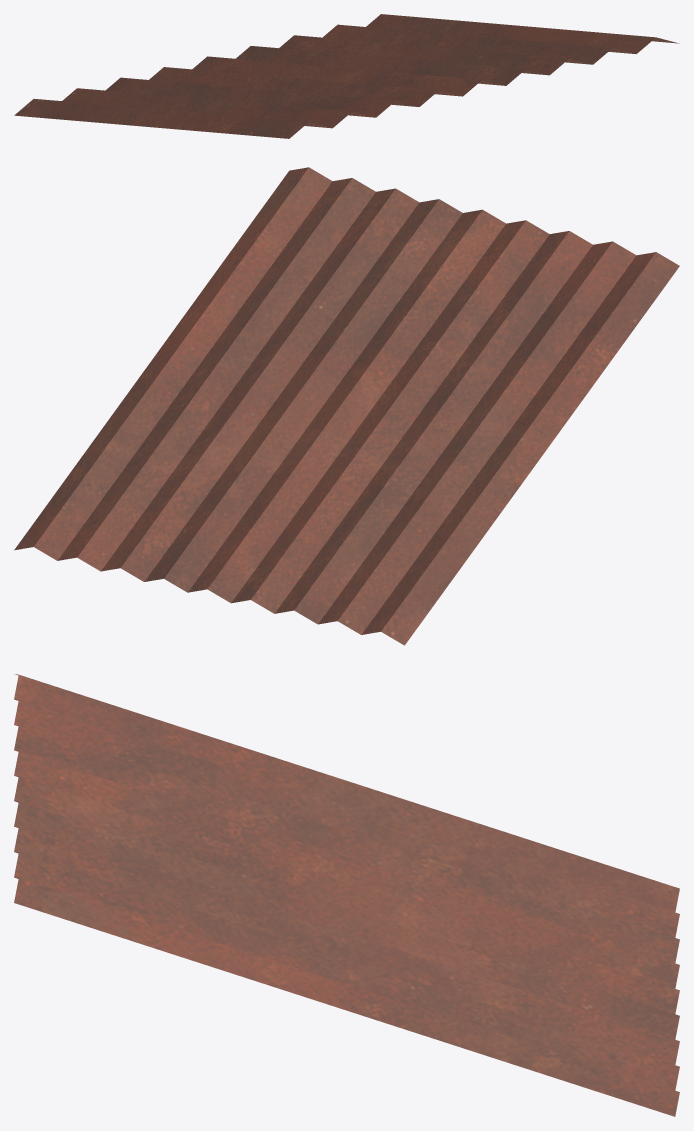
The model's file is Chapa.glb.
3 views of the same model, one above another, from view 1: azimuth 30°, elevation 25°; view 2: azimuth 150°, elevation 25°; view 3: azimuth 270°, elevation 25° (orthographic). The views are drawn at different scales.
Parts seen in each view (by area): view 1: Plane; view 2: Plane; view 3: Plane.
Part boxes in pixels (left/top/right/bottom): Plane: left=14, top=14, right=679, bottom=138; Plane: left=14, top=167, right=679, bottom=645; Plane: left=14, top=674, right=679, bottom=1116.
Bounding box in the file's own units: 0.9507 × 0.4379 × 1.17.
Materials: 1 (1 with a texture image).
